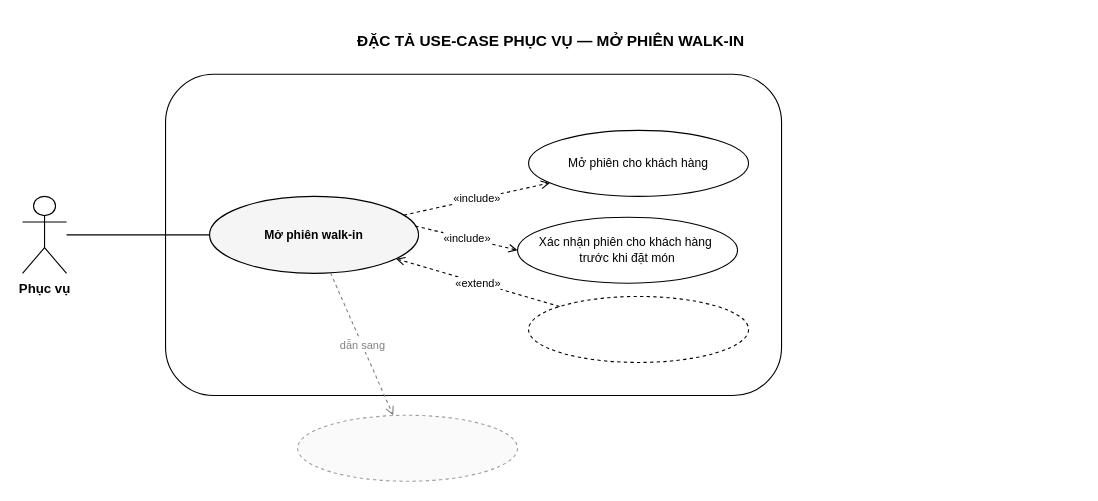
Some shapes in this 1098 by 501 pixel diagram are drawn without their labels. The shapes that lost their labels are listed below. From the top down, each one's box as (x1, y1, x2, y2) in pixels, then its label:
(527, 295, 749, 362): Đóng phiên cũ còn treo
(296, 414, 518, 481): Gọi món hộ / Khách quét QR (UC-01)
